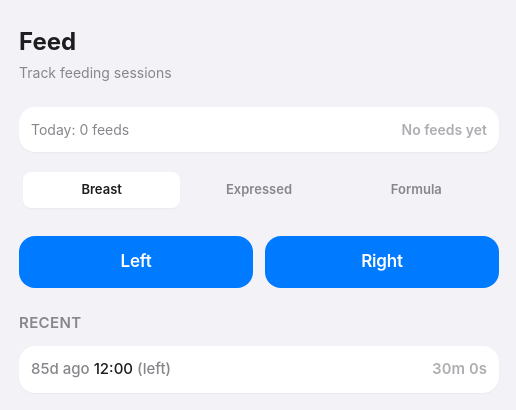
Feed › starts breast feed and shows success toast
Click the button "Left". click: (136, 262)
box: [19,236,253,288]
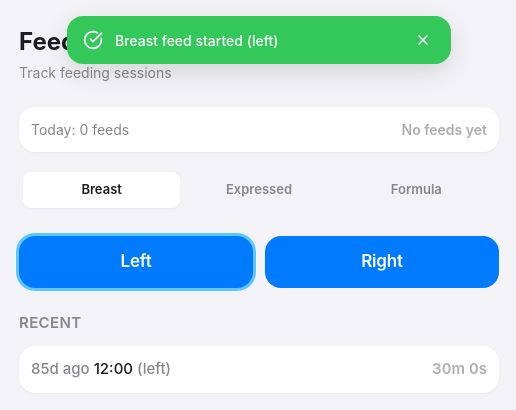
Check: the text "Breast feed started (left)" is shown, box [115,32,278,48]
